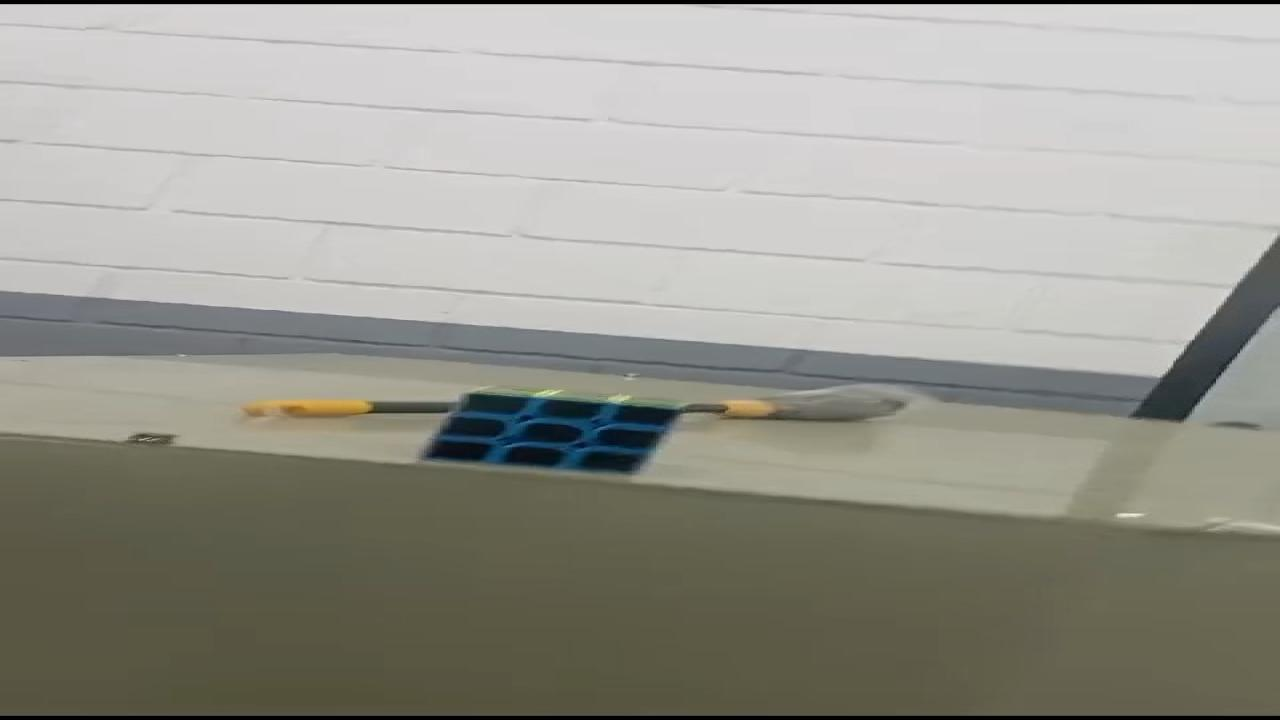Cube: (390, 387, 703, 474)
